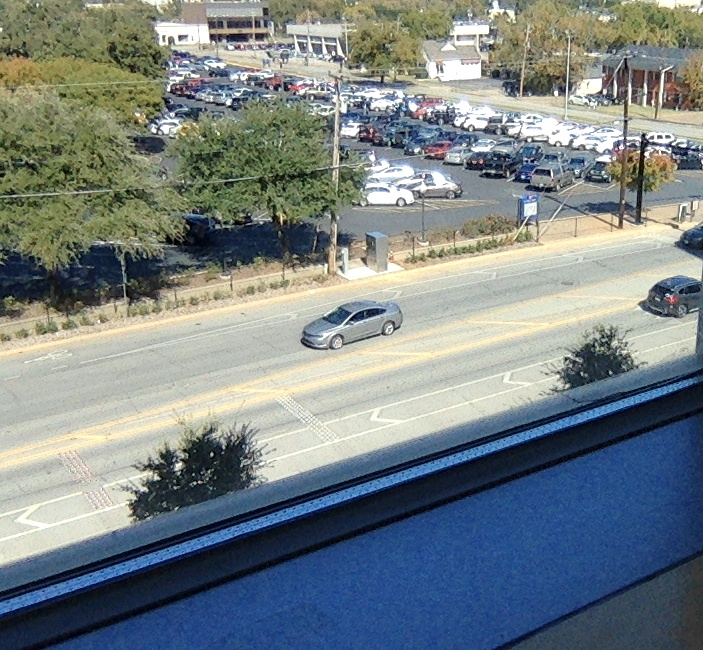car: (300, 300, 403, 350)
